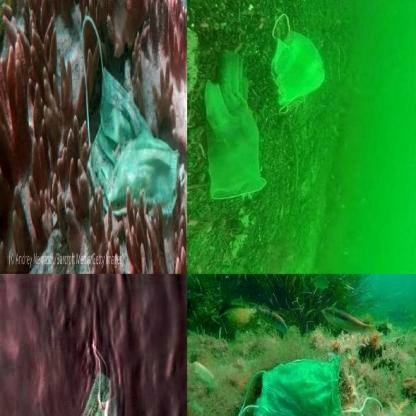Mask: (79, 13, 179, 234), (234, 352, 388, 415), (268, 10, 331, 116), (68, 336, 128, 415)
glove: (202, 50, 269, 206)
